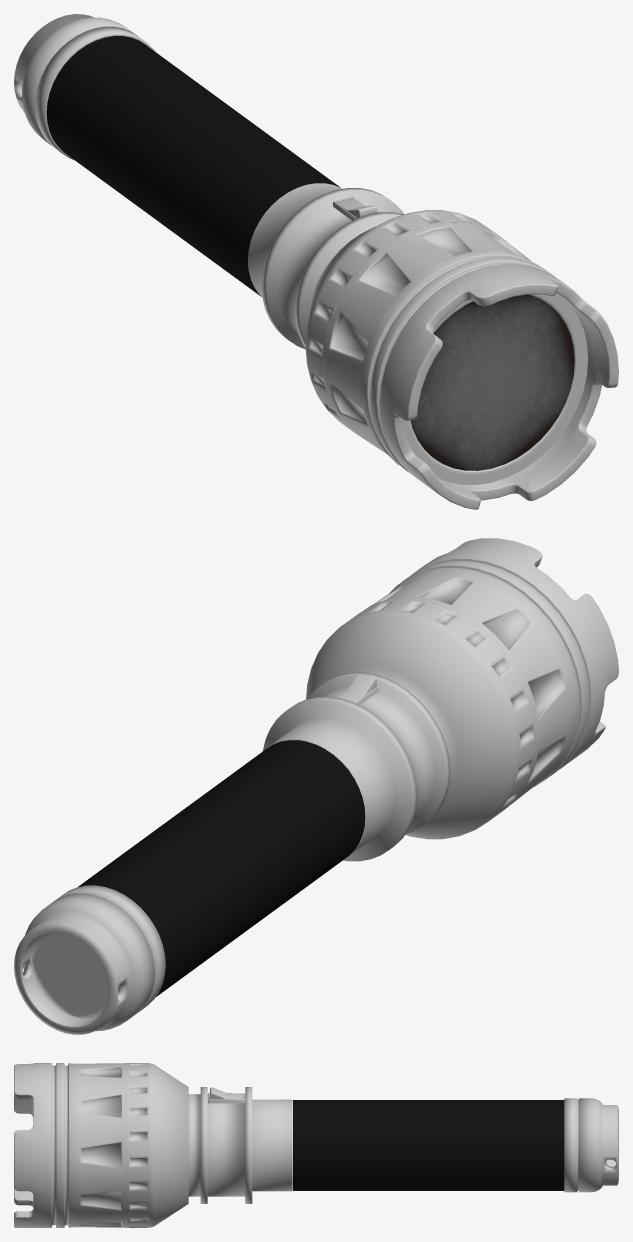
The model's file is Linterna.fbx.
3 renders of one model, top to bottom at view 1: azimuth 30°, elevation 25°; view 2: azimuth 150°, elevation 25°; view 3: azimuth 270°, elevation 25°, orthographic. The views are drawn at different scales.
Parts seen in each view (by area): view 1: Cylinder.003, Cylinder.001, Cylinder.004, Cylinder, Cylinder.002, Cylinder.005; view 2: Cylinder, Cylinder.001, Cylinder.003, Cylinder.002; view 3: Cylinder.001, Cylinder, Cylinder.003, Cylinder.002, Cube.001.
Part boxes in pixels (box(x1,y1,x2,y2)): Cylinder.003: box(323, 222, 618, 509); Cylinder.001: box(46, 36, 340, 296); Cylinder.004: box(410, 294, 574, 470); Cylinder: box(248, 183, 501, 431); Cylinder.002: box(14, 14, 155, 160); Cylinder.005: box(403, 292, 588, 484); Cylinder: box(262, 599, 535, 861); Cylinder.001: box(78, 740, 365, 996); Cylinder.003: box(368, 538, 618, 808); Cylinder.002: box(14, 885, 165, 1034); Cylinder.001: box(293, 1100, 564, 1190); Cylinder: box(127, 1063, 292, 1227); Cylinder.003: box(14, 1063, 127, 1227); Cylinder.002: box(564, 1098, 618, 1192); Cube.001: box(209, 1087, 243, 1099).
Bounding box in the file's own units: 200 × 200 × 734.
